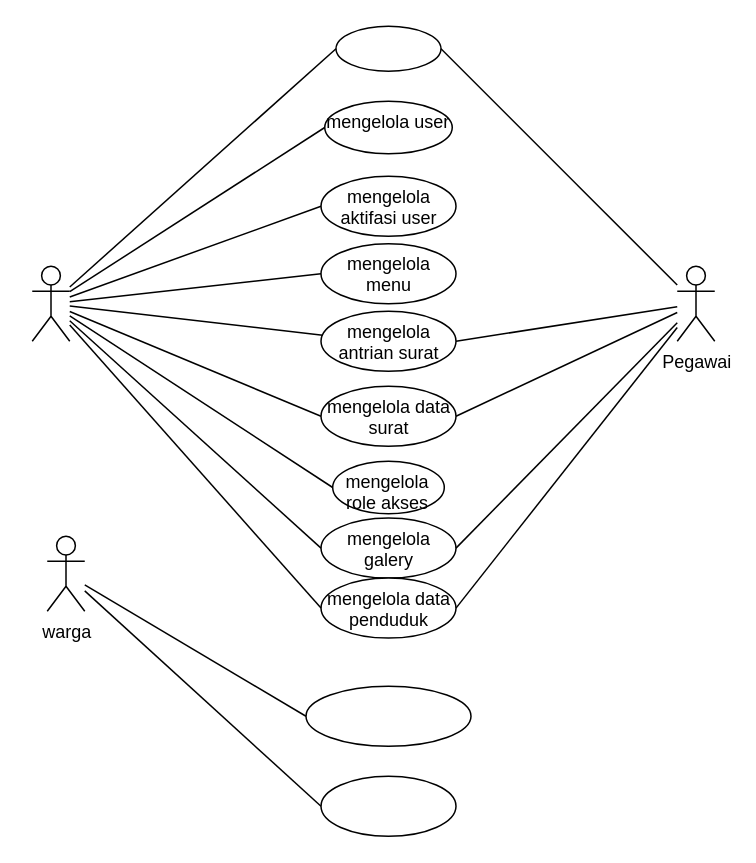
Image size: 756x863. Some labels were removed from this diagram. The box of each missing label's shape, as (x1, y1, x2, y2) in pixels:
Admin: (31, 265, 70, 341)
cek status surat: (320, 775, 456, 836)
input persyaratan surat: (304, 685, 471, 746)
login: (334, 25, 441, 71)
